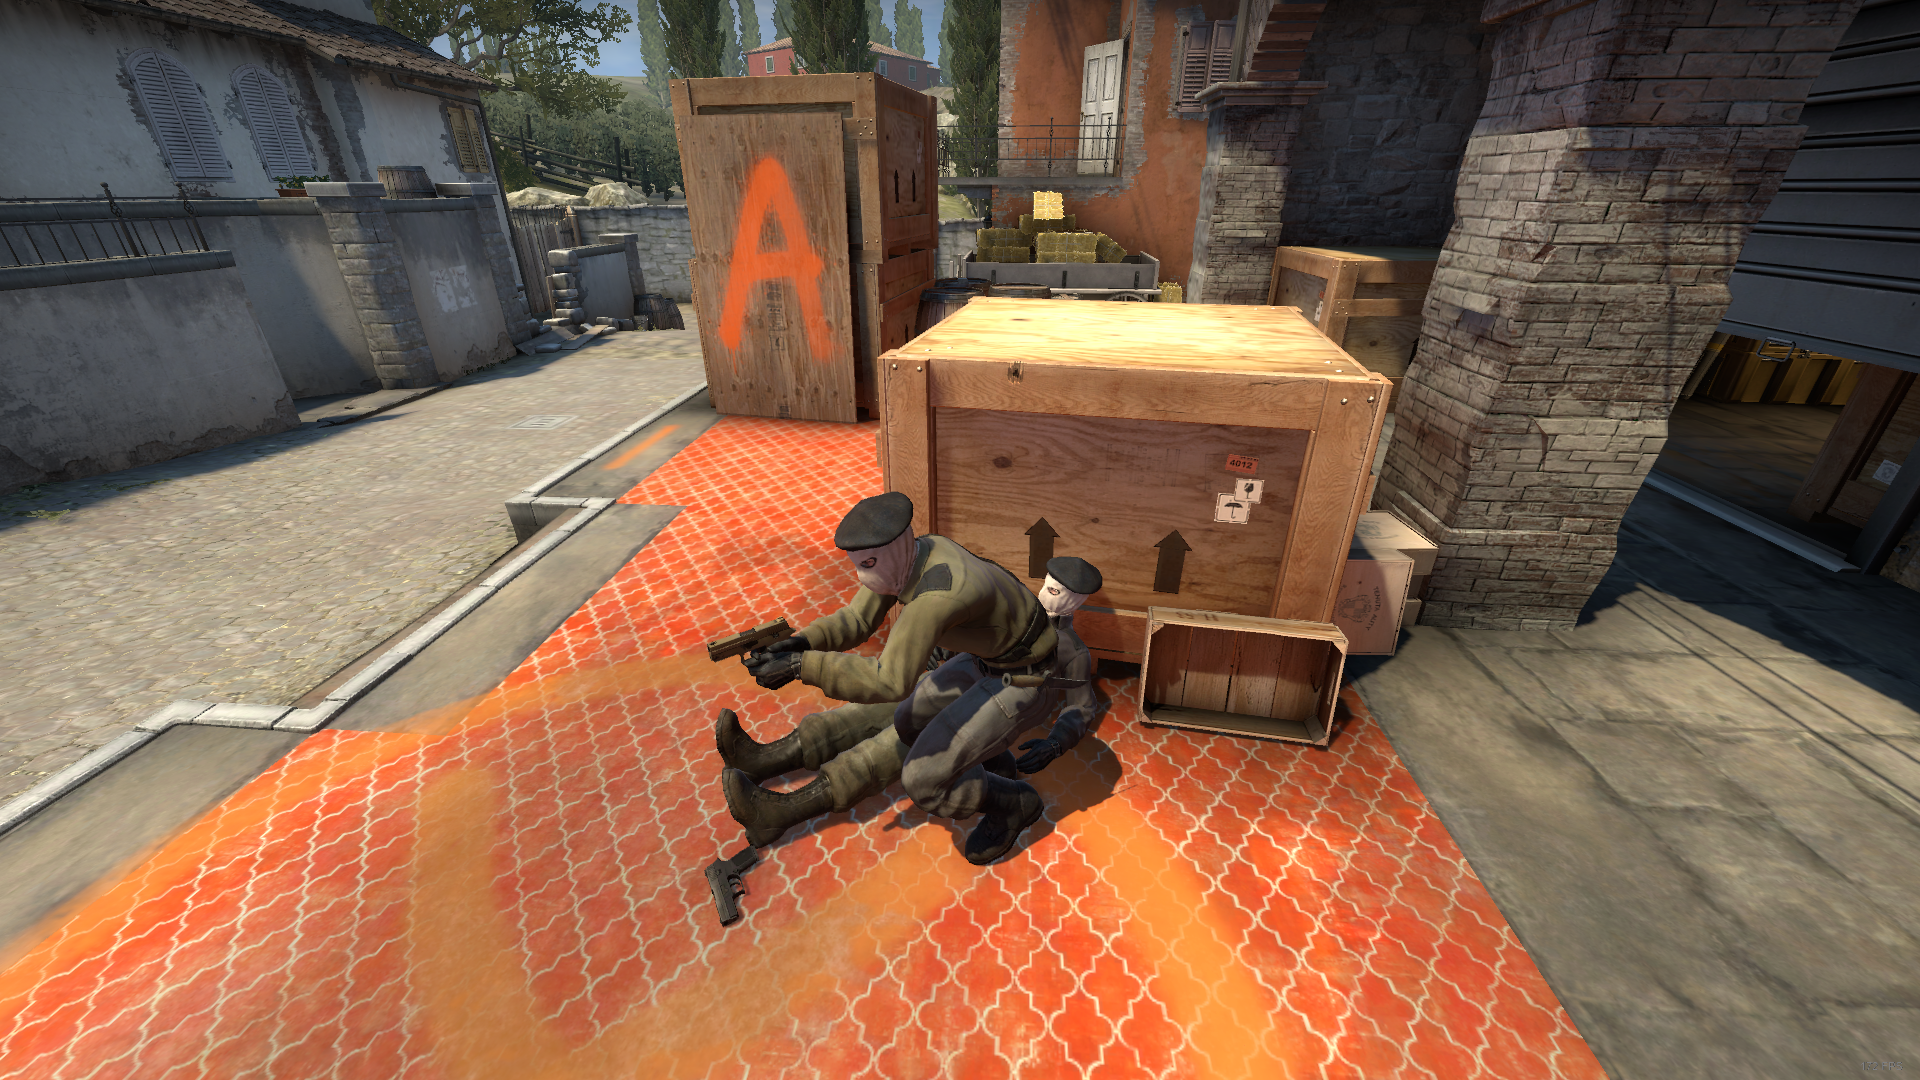t: (754, 492, 1056, 868)
